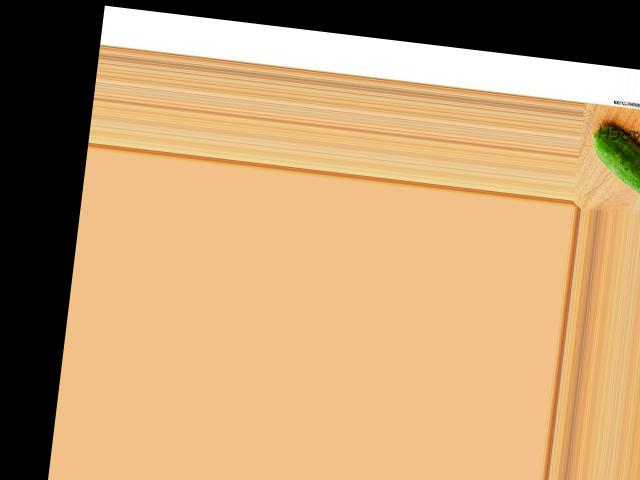cucumber: (584, 123, 640, 206)
